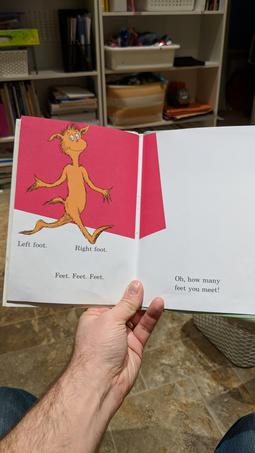text block: (167, 271, 226, 298), (49, 266, 107, 287), (11, 234, 51, 252), (72, 242, 111, 256)
